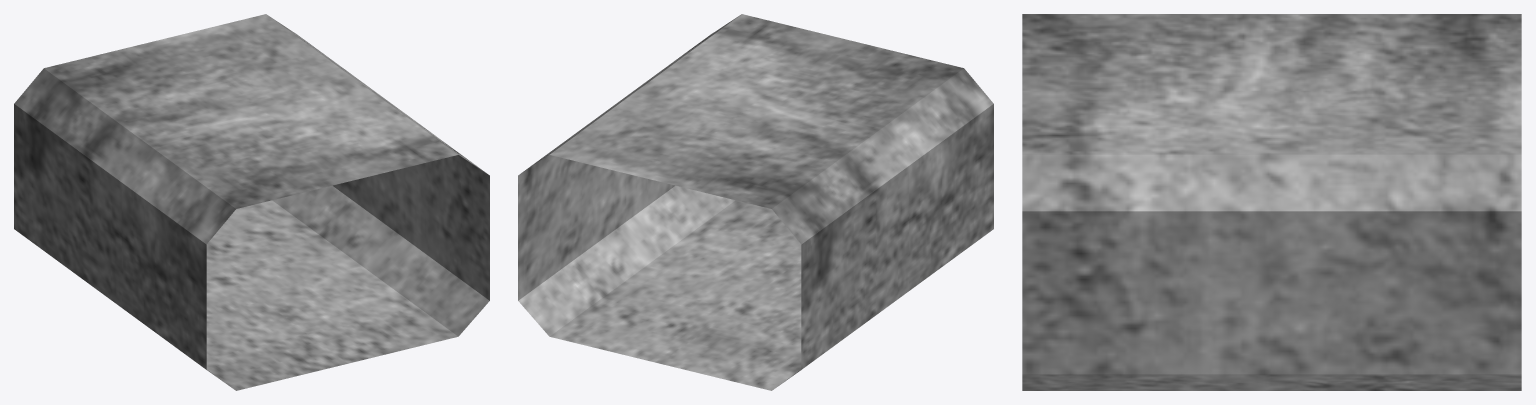
File: MissileLauncherBarrel.obj
3 views of the same model, side by side, from view 1: azimuth 30°, elevation 25°; view 2: azimuth 150°, elevation 25°; view 3: azimuth 270°, elevation 25° (orthographic). The views are drawn at different scales.
Parts seen in each view (by area): view 1: Cube.002; view 2: Cube.002; view 3: Cube.002.
Part boxes in pixels (left/top/right/bottom): Cube.002: left=14, top=14, right=489, bottom=390; Cube.002: left=518, top=14, right=993, bottom=390; Cube.002: left=1022, top=14, right=1521, bottom=390.
Size of the model in its own units: 1.76 by 1.08 by 2.07.
Materials: 1 (1 with a texture image).
